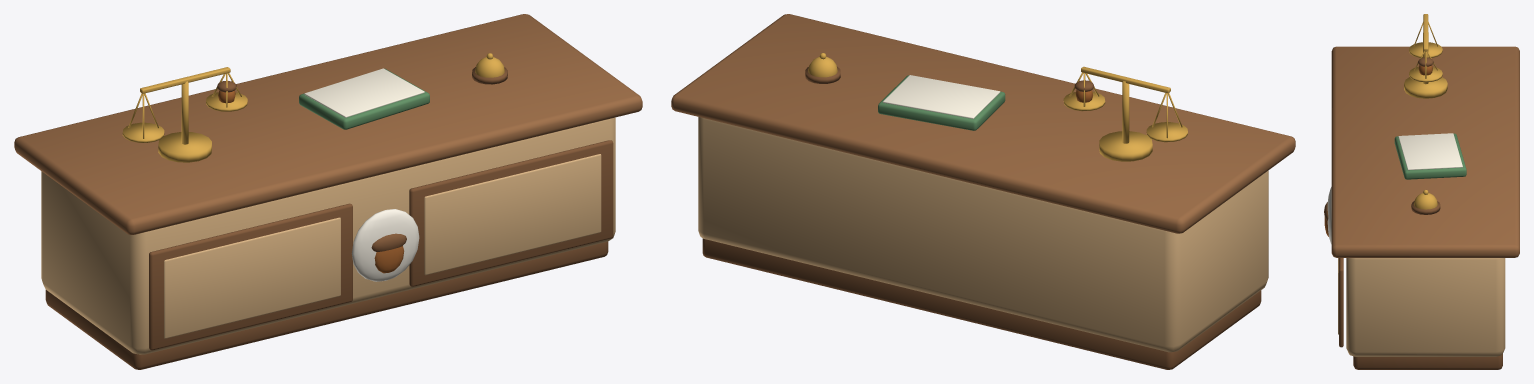
The model's file is shop-counter.glb.
3 views of the same model, side by side, from view 1: azimuth 30°, elevation 25°; view 2: azimuth 150°, elevation 25°; view 3: azimuth 270°, elevation 25° (orthographic). The views are drawn at different scales.
Visible parts, largest first — view 1: counter, things; view 2: counter, things; view 3: counter, things.
Part boxes in pixels (x1=…): counter: x1=14, y1=14, x2=642, y2=369; things: x1=122, y1=53, x2=507, y2=162; counter: x1=671, y1=14, x2=1295, y2=369; things: x1=805, y1=53, x2=1187, y2=161; counter: x1=1324, y1=46, x2=1519, y2=369; things: x1=1394, y1=14, x2=1466, y2=214.
Size of the model in its own units: 1.98 by 0.878 by 0.812.
